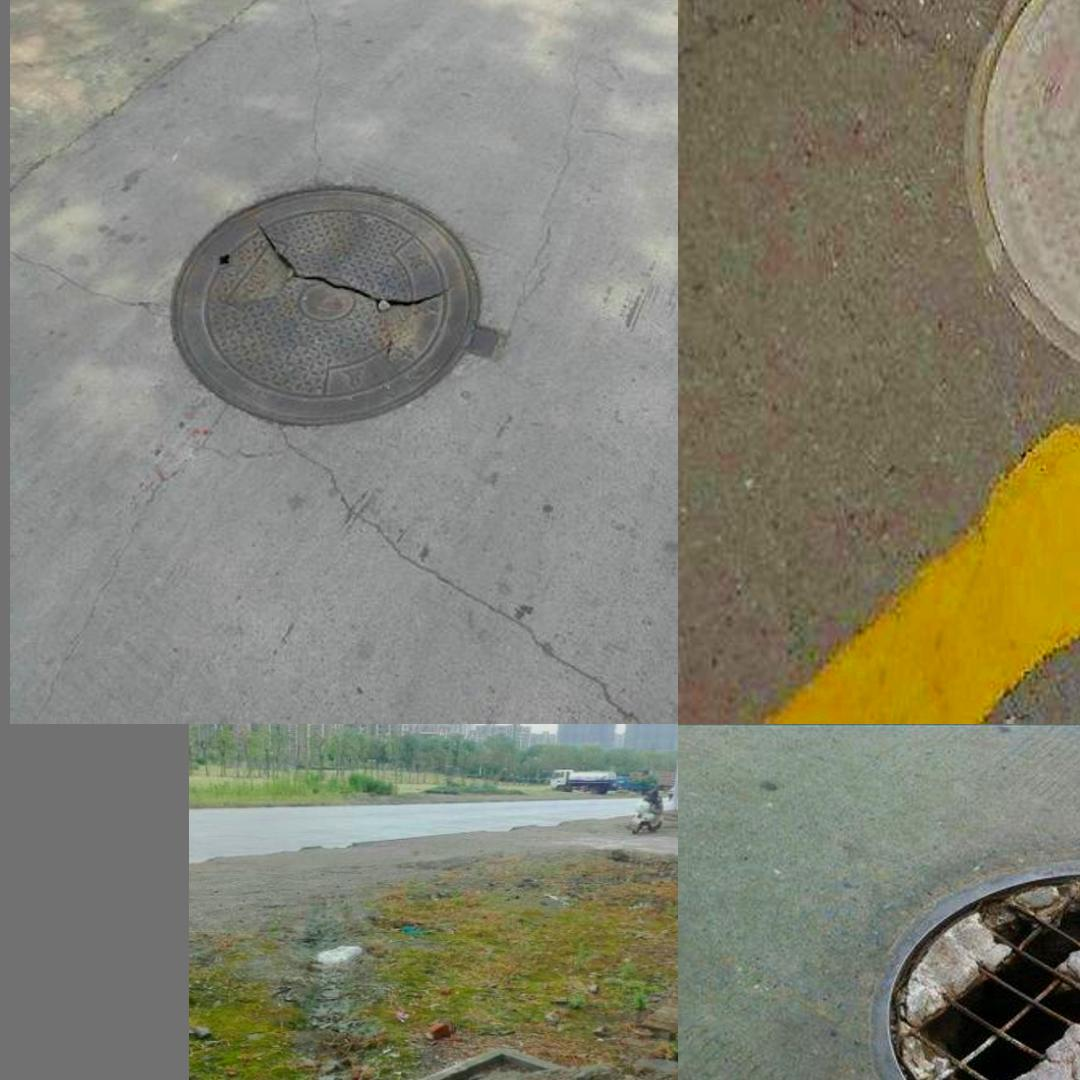broke: (164, 171, 506, 436), (842, 854, 1080, 1080), (964, 0, 1080, 397), (377, 1045, 648, 1080)
